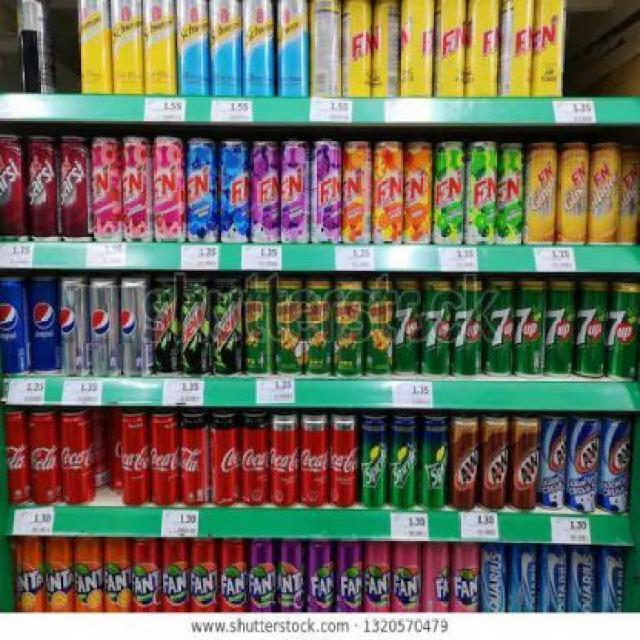Drinks: (59, 408, 96, 510), (575, 277, 609, 379), (119, 275, 153, 377), (208, 407, 240, 510), (451, 276, 483, 378), (609, 280, 640, 384), (546, 278, 577, 380), (516, 278, 547, 380), (484, 276, 515, 378), (89, 275, 120, 377), (29, 408, 60, 510), (27, 274, 58, 374), (58, 277, 89, 375), (180, 407, 209, 510), (241, 408, 270, 510), (0, 278, 29, 378), (390, 410, 419, 510), (150, 409, 179, 509), (120, 410, 149, 510), (422, 278, 451, 376), (420, 412, 449, 510), (360, 410, 389, 508), (330, 411, 359, 509), (300, 412, 329, 510), (270, 411, 299, 509), (394, 278, 422, 376), (4, 408, 30, 510), (45, 537, 74, 614), (15, 537, 44, 614), (220, 538, 249, 614), (190, 538, 219, 614), (161, 538, 190, 614), (133, 538, 162, 614), (104, 538, 133, 614), (74, 538, 103, 614), (337, 539, 366, 611), (308, 540, 337, 612), (278, 539, 307, 611), (250, 539, 279, 611), (450, 542, 479, 613), (422, 541, 450, 613), (394, 542, 422, 613), (365, 542, 393, 613)
